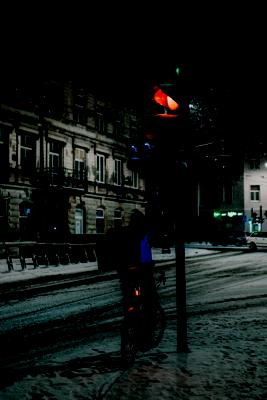International Road Signal Light: (150, 55, 192, 151)
